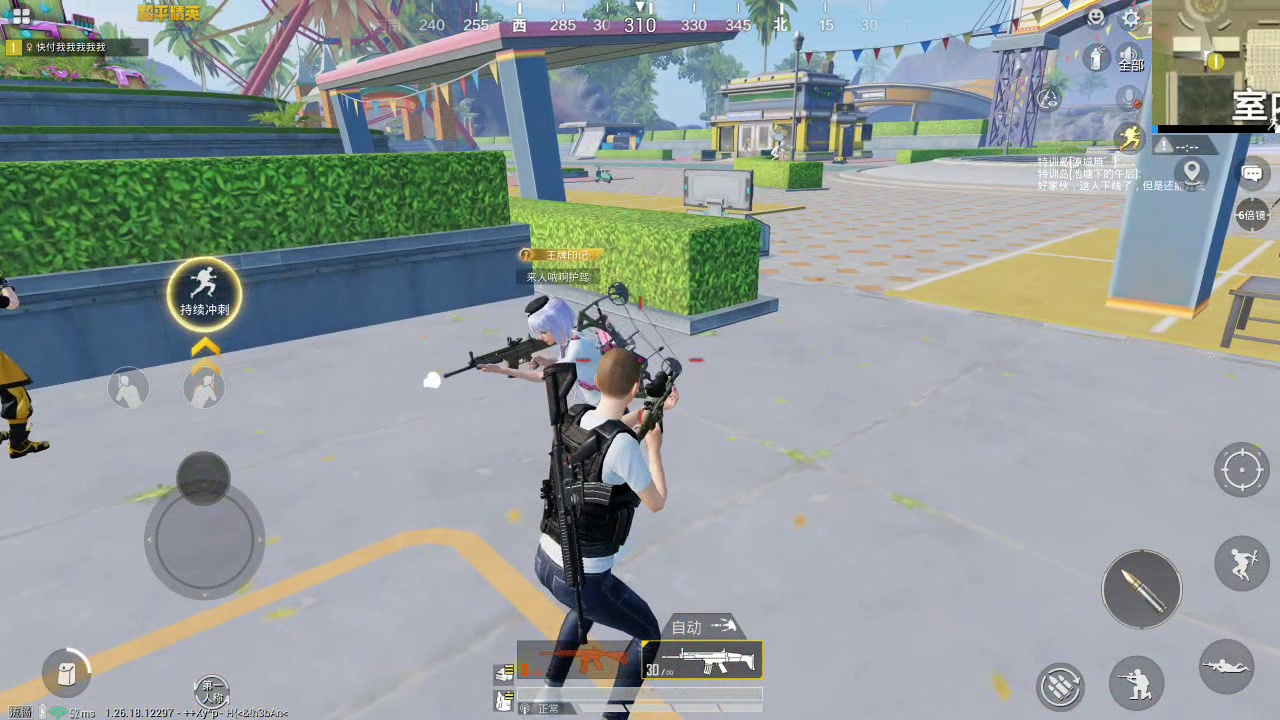enemy: (1, 272, 49, 461), (527, 296, 607, 401), (769, 138, 785, 158)
